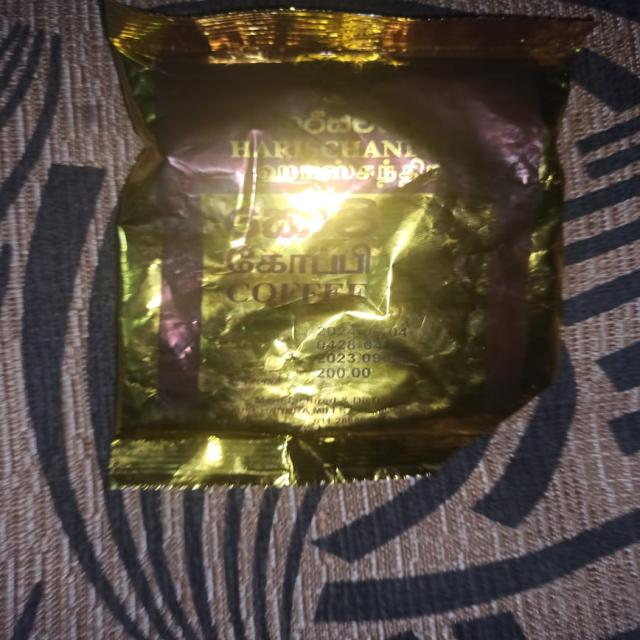Harischandra Coffee: (120, 0, 599, 547)
